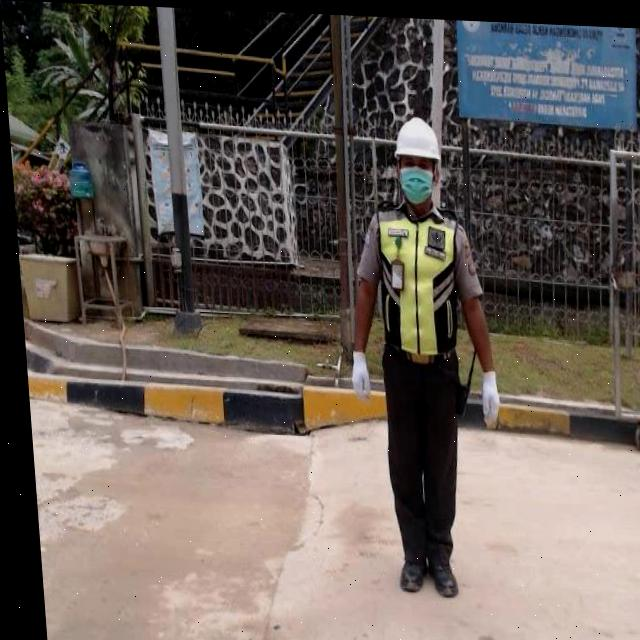Gloves: (474, 366, 497, 424), (345, 347, 366, 396)
Helmet: (391, 111, 440, 158)
Safety-Vest: (371, 203, 464, 355)
